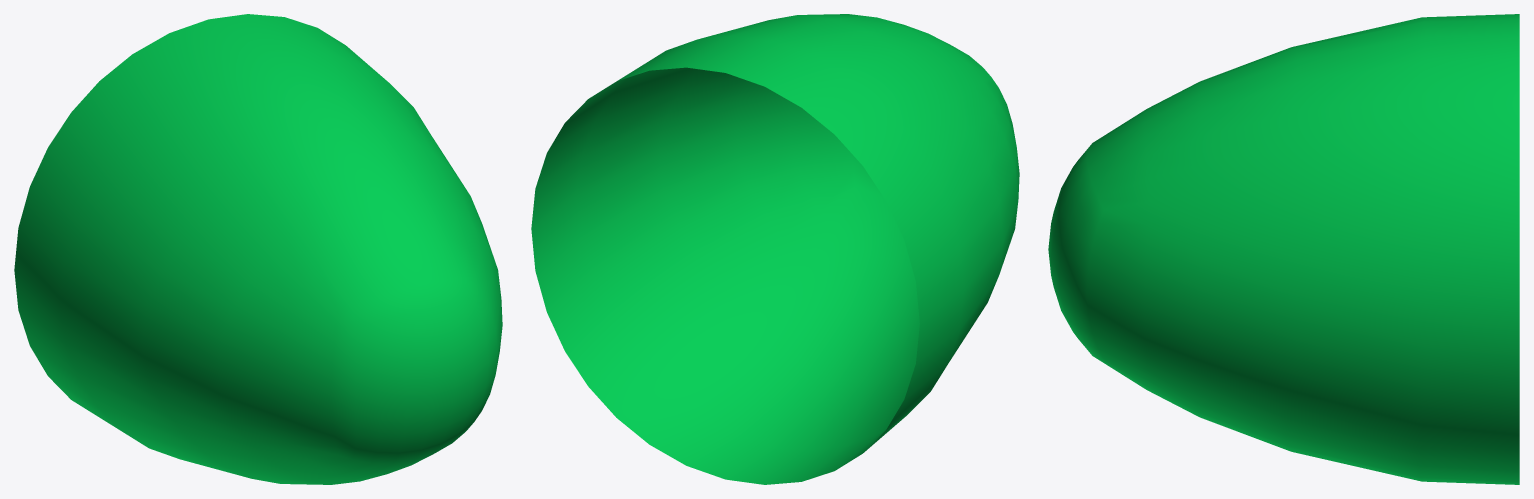
File: body_end.glb
The picture shows the model from 3 angles, left to right: view 1: azimuth 30°, elevation 25°; view 2: azimuth 150°, elevation 25°; view 3: azimuth 270°, elevation 25°; orthographic projection. The views are drawn at different scales.
Visible parts, largest first — view 1: BodyEnd; view 2: BodyEnd; view 3: BodyEnd.
Boxes of the visible parts, x1,y1,x2,y2 form: BodyEnd: (14, 14, 502, 484); BodyEnd: (531, 14, 1019, 484); BodyEnd: (1048, 14, 1519, 484).
Bounding box in the file's own units: 1 × 1 × 1.
